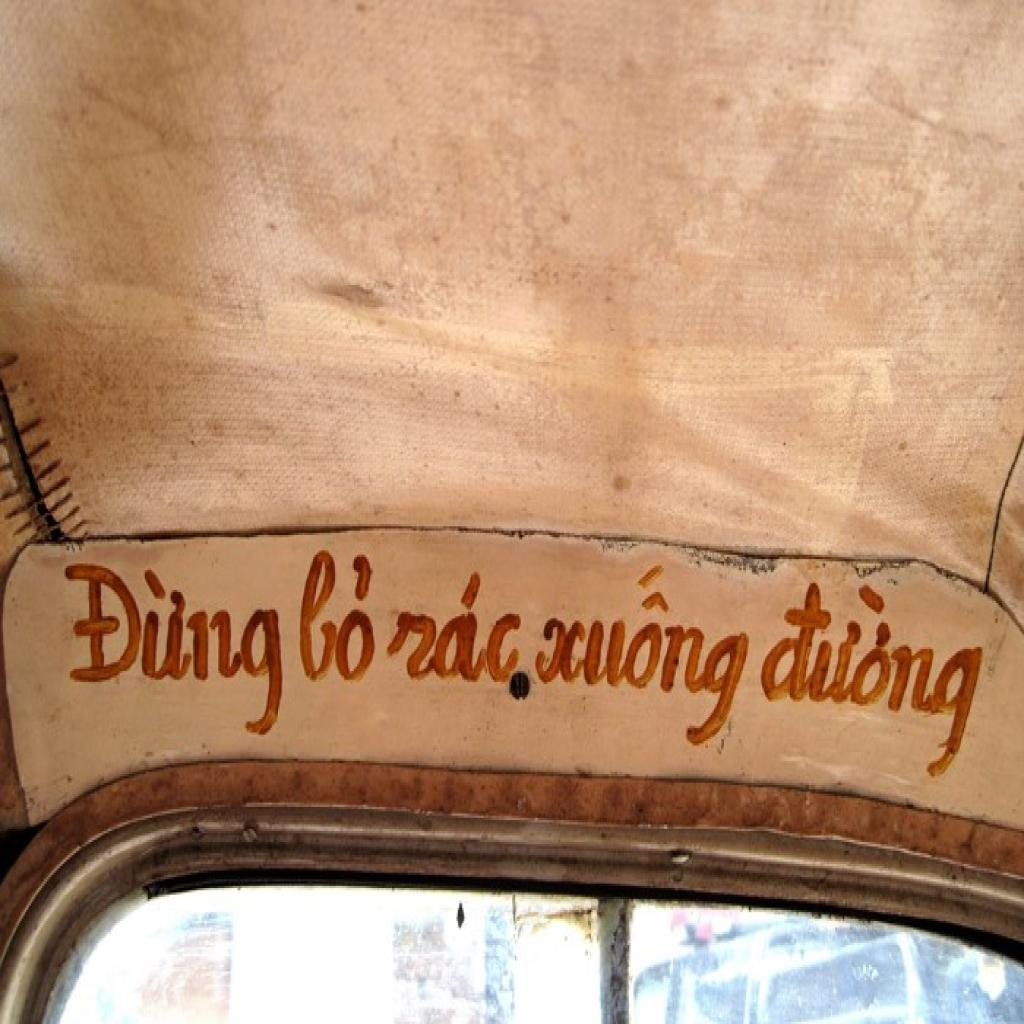text: (526, 562, 760, 756), (63, 561, 287, 739), (382, 572, 525, 688), (296, 550, 378, 688)
